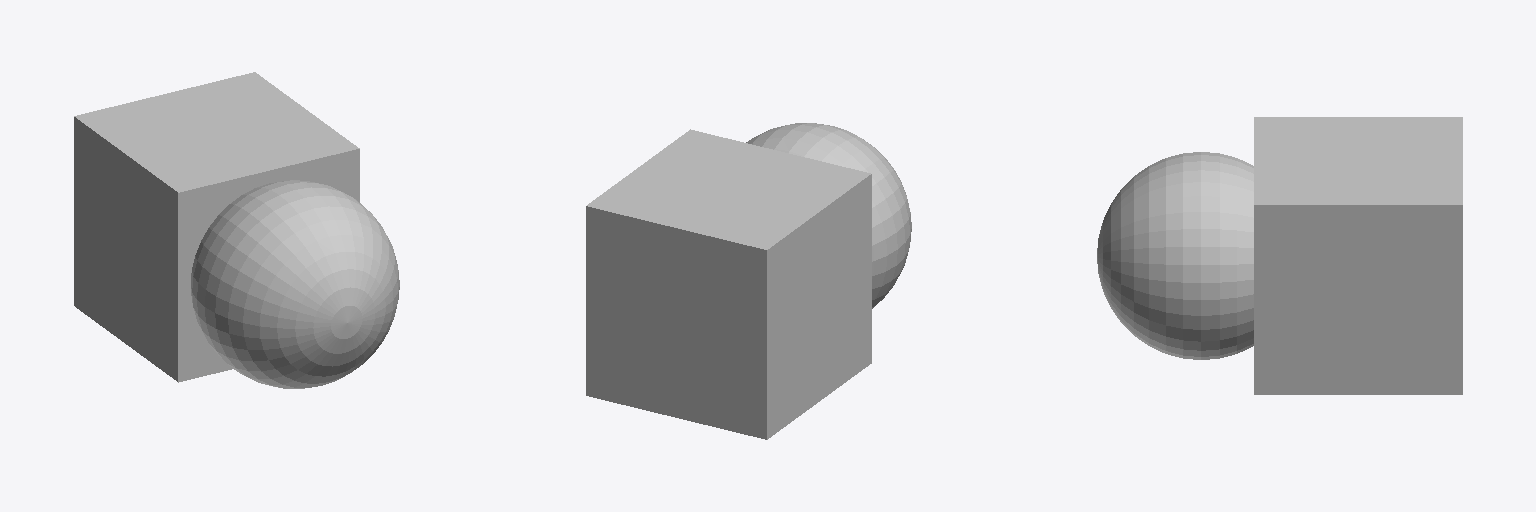
Rendered from tinker.obj.
The picture shows the model from 3 angles: view 1: azimuth 30°, elevation 25°; view 2: azimuth 150°, elevation 25°; view 3: azimuth 270°, elevation 25°; orthographic projection.
Parts seen in each view (by area): view 1: obj_0; view 2: obj_0; view 3: obj_0.
Boxes of the visible parts, box(x1,y1,x2,y2) form: obj_0: box(74, 72, 399, 388); obj_0: box(586, 123, 911, 439); obj_0: box(1097, 117, 1462, 394).
Bounding box in the file's own units: 20 × 20 × 35.